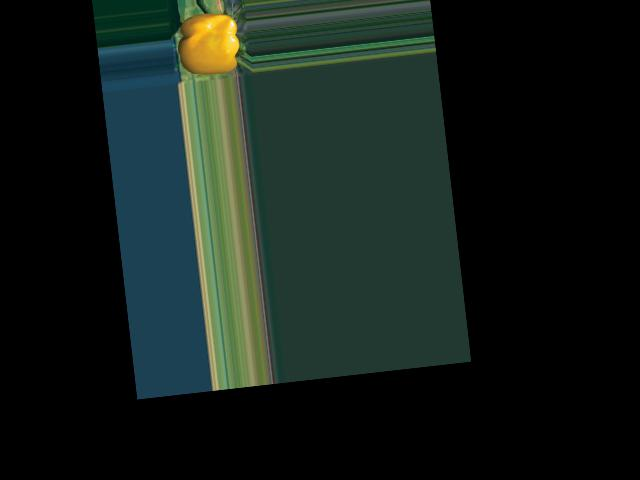bell_pepper: (173, 4, 248, 81)
